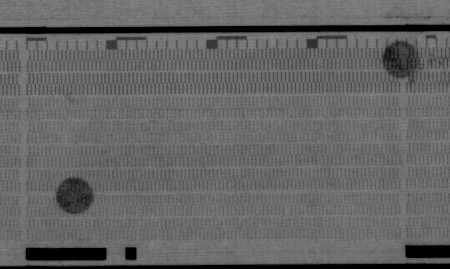Broken hole: (282, 205, 292, 217)
